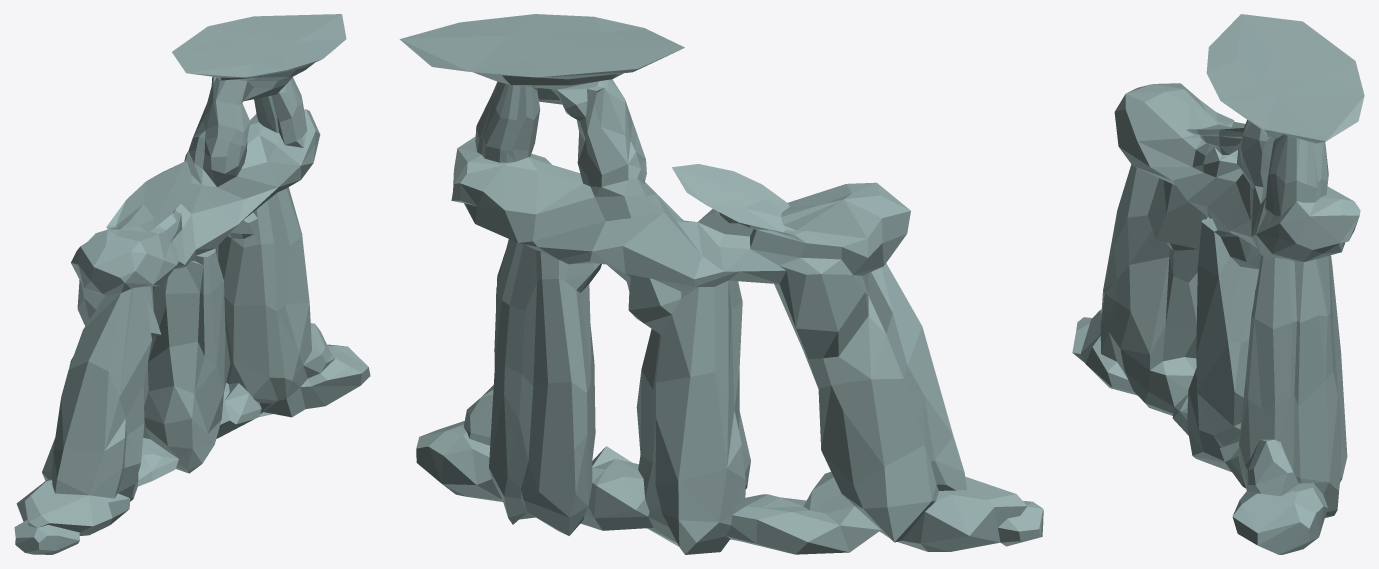
Rendered from HolePillar_2_1.fbx.
The picture shows the model from 3 angles, left to right: view 1: azimuth 30°, elevation 25°; view 2: azimuth 150°, elevation 25°; view 3: azimuth 270°, elevation 25°; orthographic projection. The views are drawn at different scales.
Parts seen in each view (by area): view 1: HolePillar2; view 2: HolePillar2; view 3: HolePillar2.
Boxes of the visible parts, <box> form: HolePillar2: <box>14,14,370,554</box>; HolePillar2: <box>399,14,1043,554</box>; HolePillar2: <box>1072,14,1364,554</box>.
Size of the model in its own units: 66819 by 59393 by 34039.
